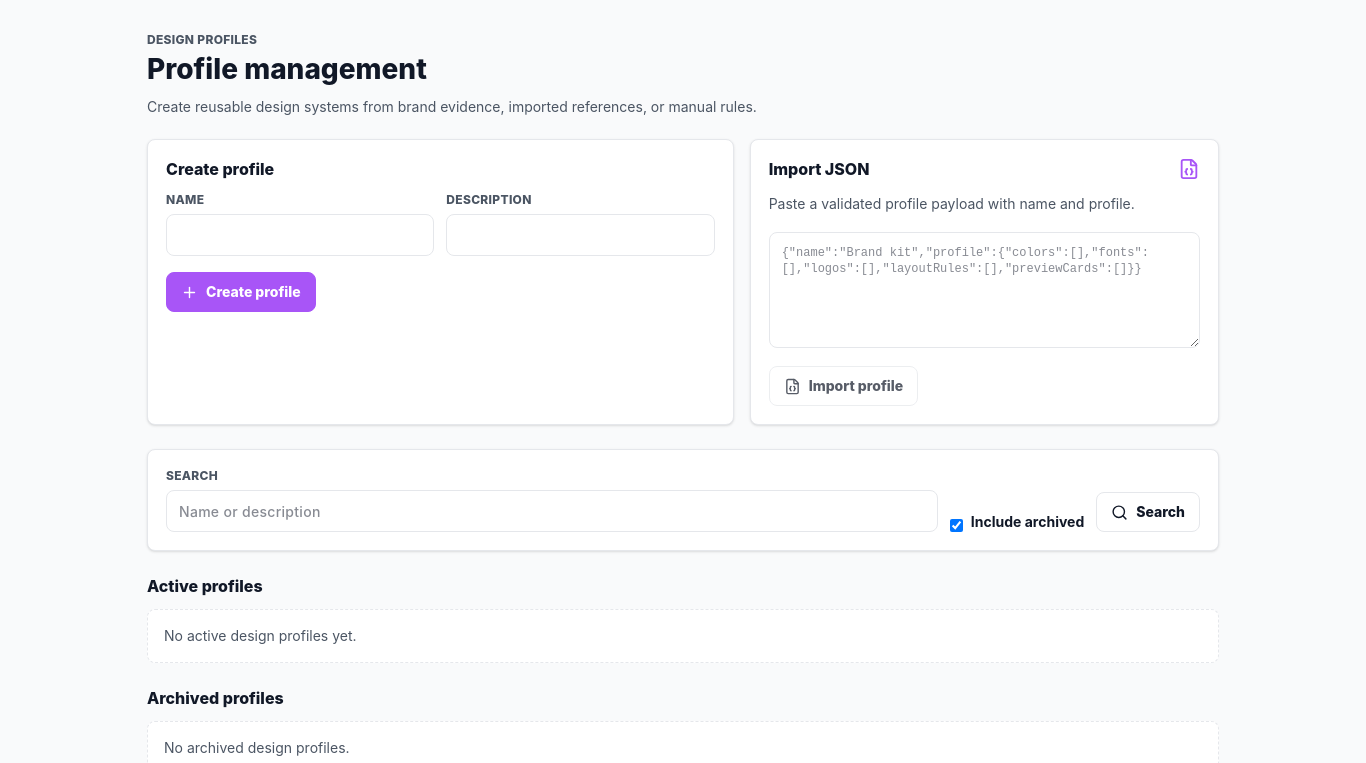
Test case: DesignProfileWorkspace › creates a manual profile from the form
Expected: the text "No active design profiles yet." is shown, left=147, top=609, right=1219, bottom=663
Type "New kit" into the field labelled "Name" at (300, 235), box left=166, top=214, right=434, bottom=256
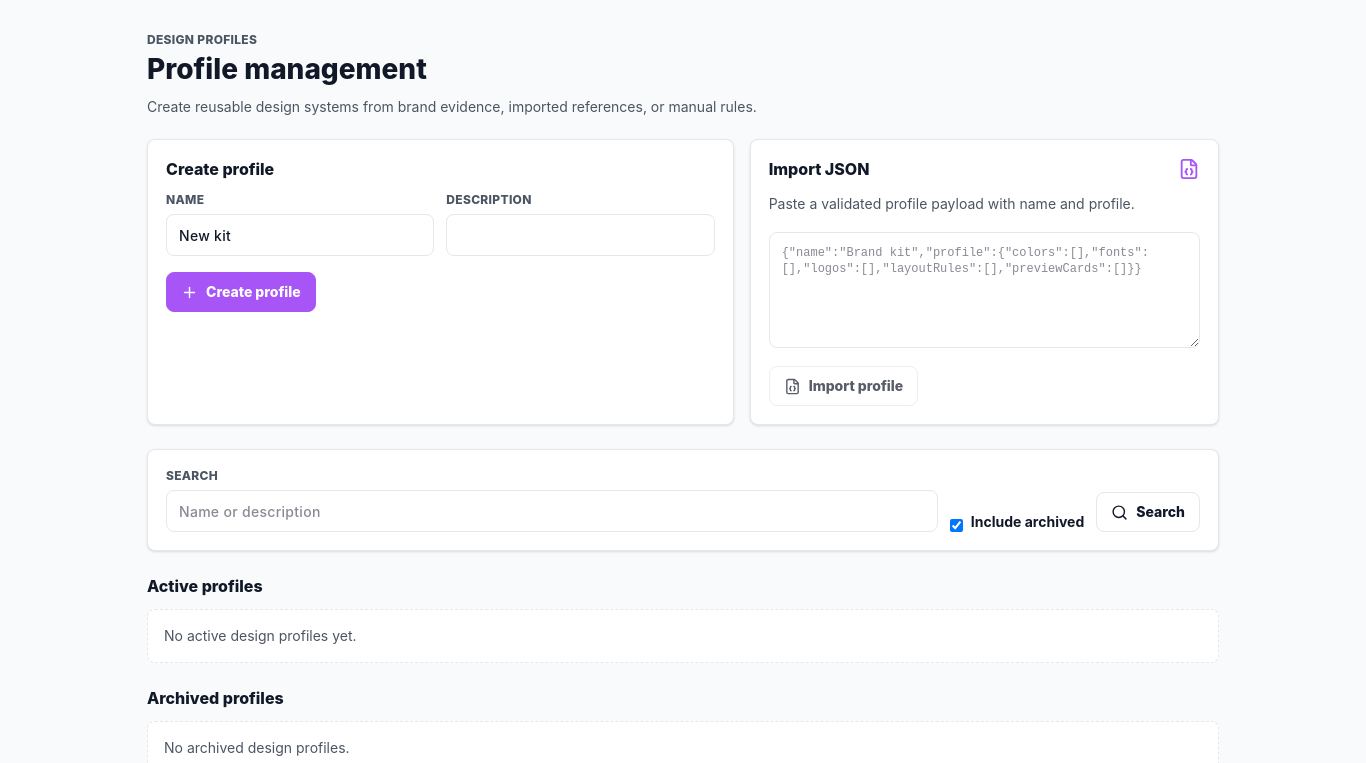
Click the button "Create profile" at (241, 292), box left=166, top=272, right=316, bottom=312
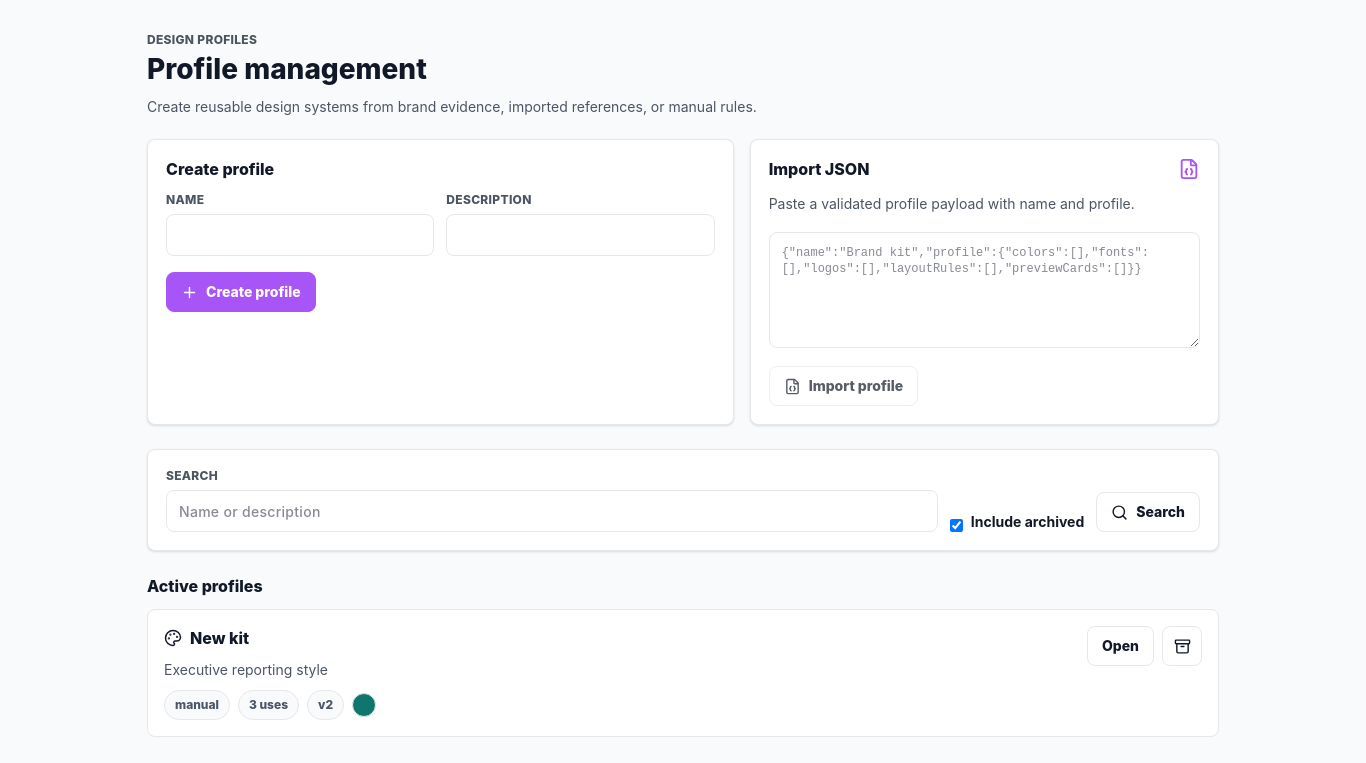
Now the link "New kit" is shown, box left=190, top=626, right=249, bottom=650
